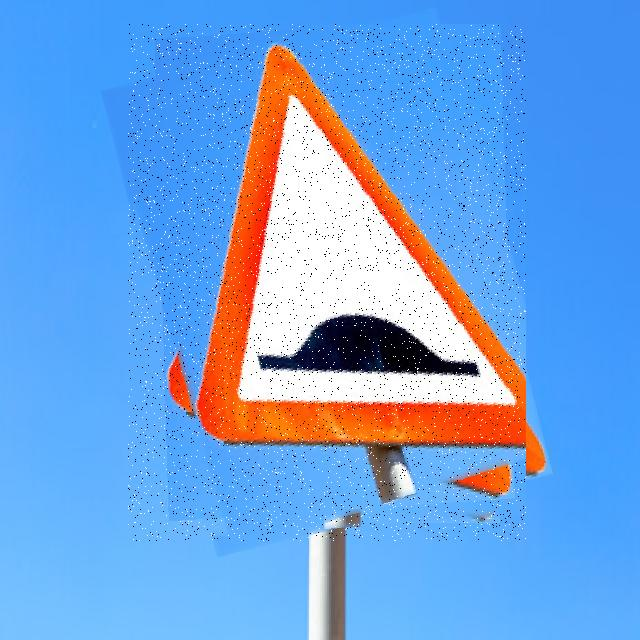hump: (128, 24, 526, 541)
